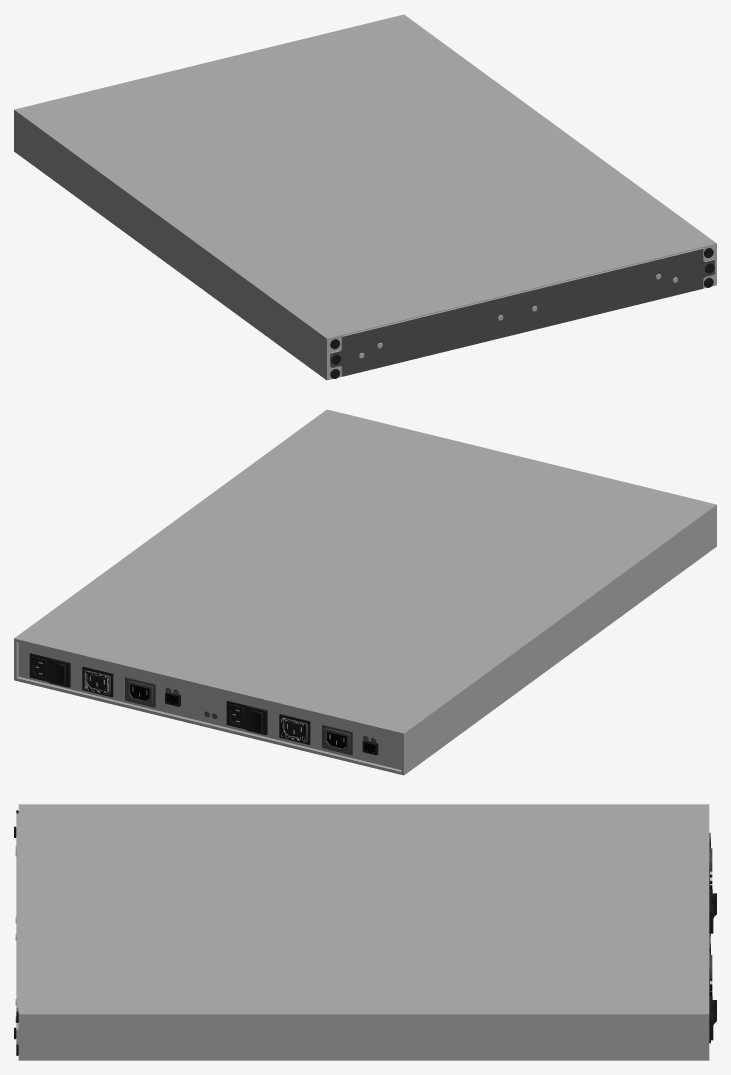
The model's file is DELL EMC_VNX SPS.fbx.
3 renders of one model, top to bottom at view 1: azimuth 30°, elevation 25°; view 2: azimuth 150°, elevation 25°; view 3: azimuth 270°, elevation 25°, orthographic. The views are drawn at different scales.
Visible parts, largest first — view 1: DELL EMC_VNX SPS; view 2: DELL EMC_VNX SPS; view 3: DELL EMC_VNX SPS.
Part boxes in pixels (x1,y1,x2,y2): DELL EMC_VNX SPS: [14, 14, 716, 380]; DELL EMC_VNX SPS: [14, 409, 716, 775]; DELL EMC_VNX SPS: [14, 804, 716, 1060].
Size of the model in its own units: 434 by 614 by 44.5.
6 materials, 1 textured.
